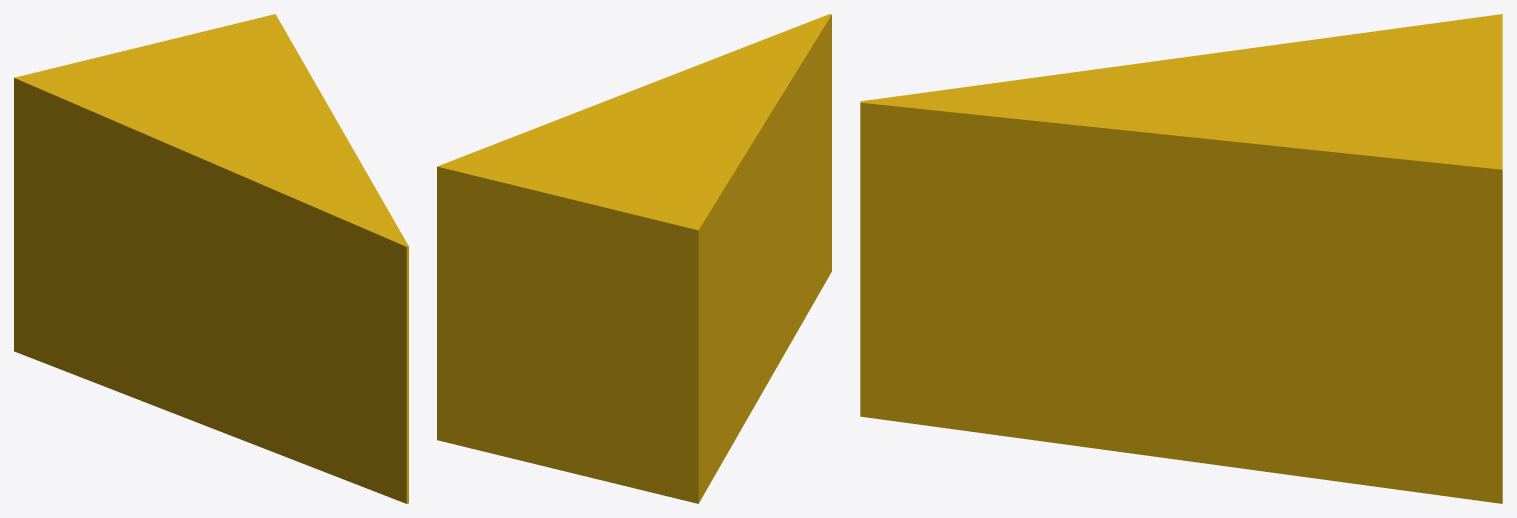
File: cheese.fbx
3 views of the same model, side by side, from view 1: azimuth 30°, elevation 25°; view 2: azimuth 150°, elevation 25°; view 3: azimuth 270°, elevation 25° (orthographic). The views are drawn at different scales.
Visible parts, largest first — view 1: Cube.016; view 2: Cube.016; view 3: Cube.016.
Part boxes in pixels (x1,y1,x2,y2): Cube.016: (14,14,408,503); Cube.016: (437,14,831,503); Cube.016: (860,14,1502,503).
Size of the model in its own units: 20 by 20 by 34.84.
